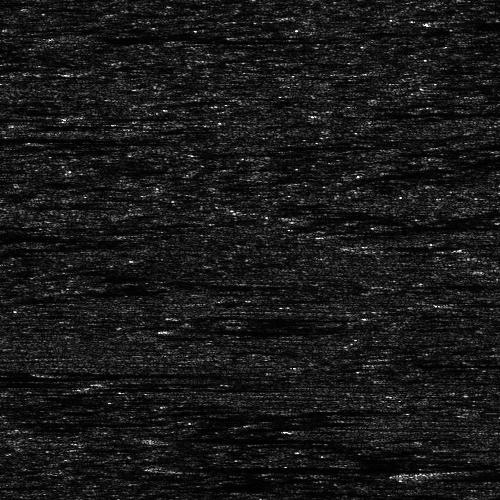rock: (398, 469, 471, 480), (127, 433, 210, 440), (40, 30, 103, 39), (61, 381, 124, 390), (430, 18, 471, 25), (175, 464, 216, 469), (29, 369, 70, 374), (385, 240, 396, 249), (0, 421, 22, 424)
shadow: (72, 30, 285, 39), (93, 381, 297, 390), (196, 464, 459, 469), (169, 433, 324, 440), (0, 133, 136, 140), (0, 372, 152, 377), (50, 369, 200, 374), (435, 469, 500, 480), (391, 240, 447, 249), (7, 421, 153, 424), (451, 18, 500, 25), (0, 115, 31, 122)
